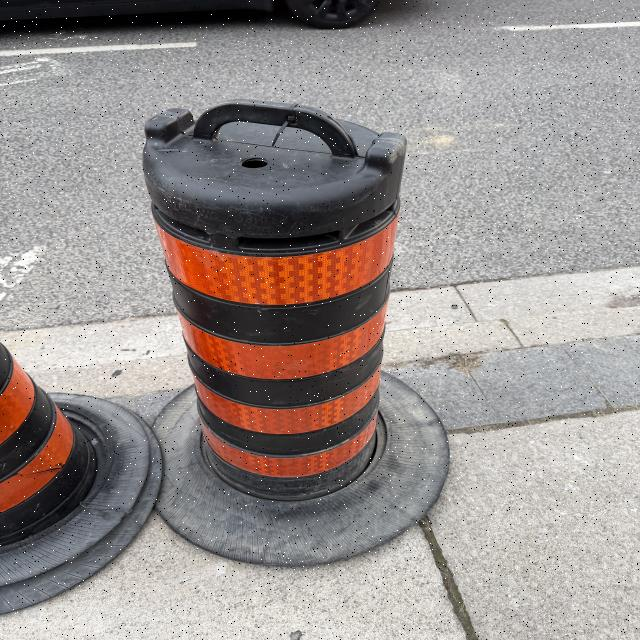Teraffic Barrel: (144, 100, 448, 566), (0, 344, 162, 613)
